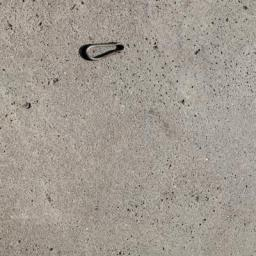FOD: (77, 39, 131, 64)
